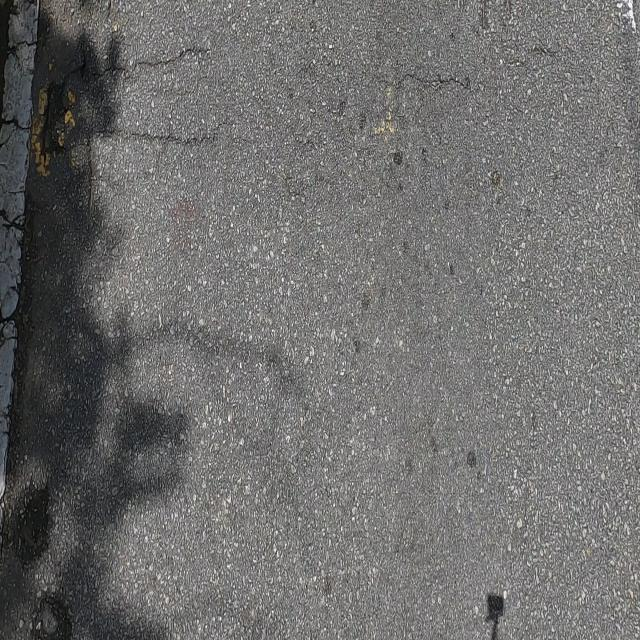Retak-Melintang: (52, 44, 212, 83), (49, 127, 218, 156), (385, 67, 472, 98)
Retak-Memanjang: (84, 81, 103, 221)
